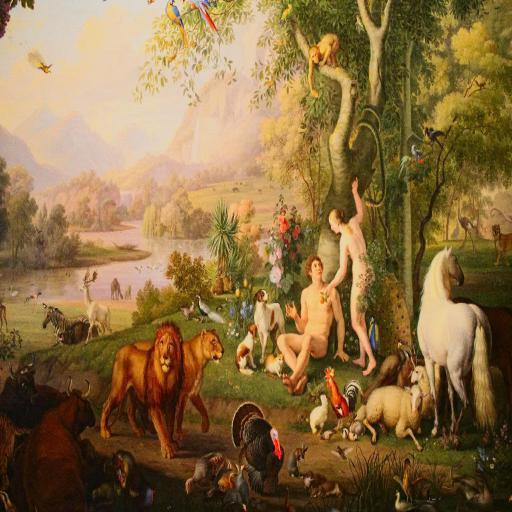horse: (416, 244, 498, 447)
